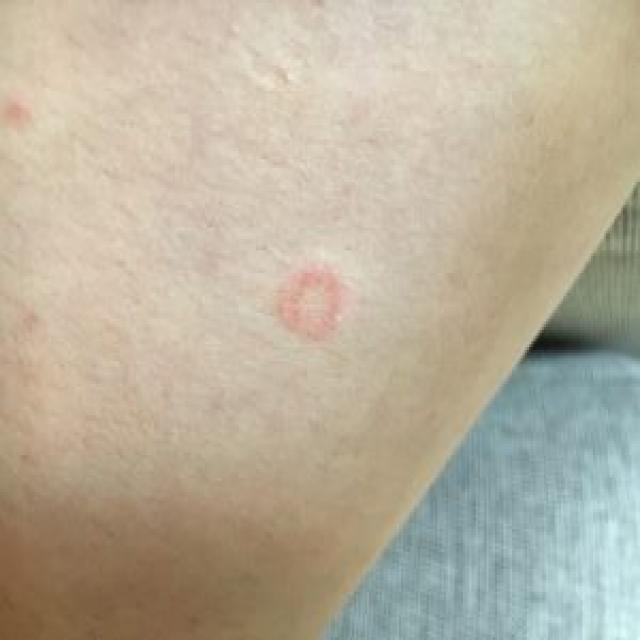tinea: (276, 262, 351, 367)
